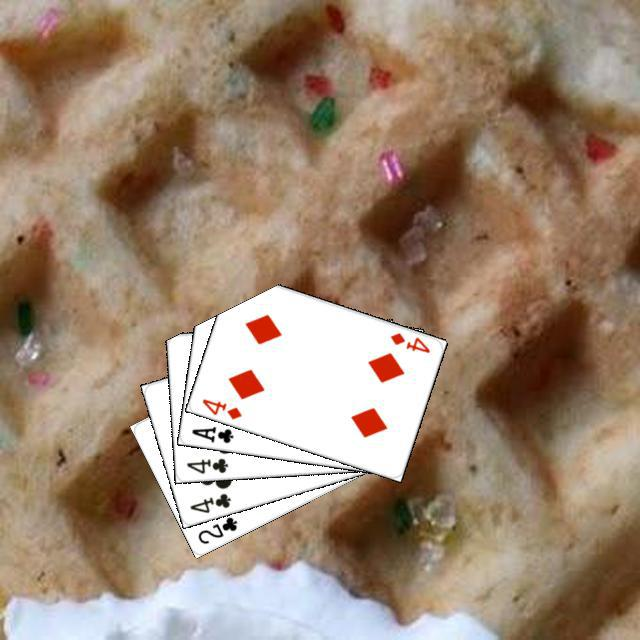2c: (193, 512, 239, 546)
4c: (185, 488, 233, 515), (182, 453, 230, 475)
4d: (385, 327, 432, 355), (197, 394, 243, 421)
Ac: (187, 422, 235, 445)
